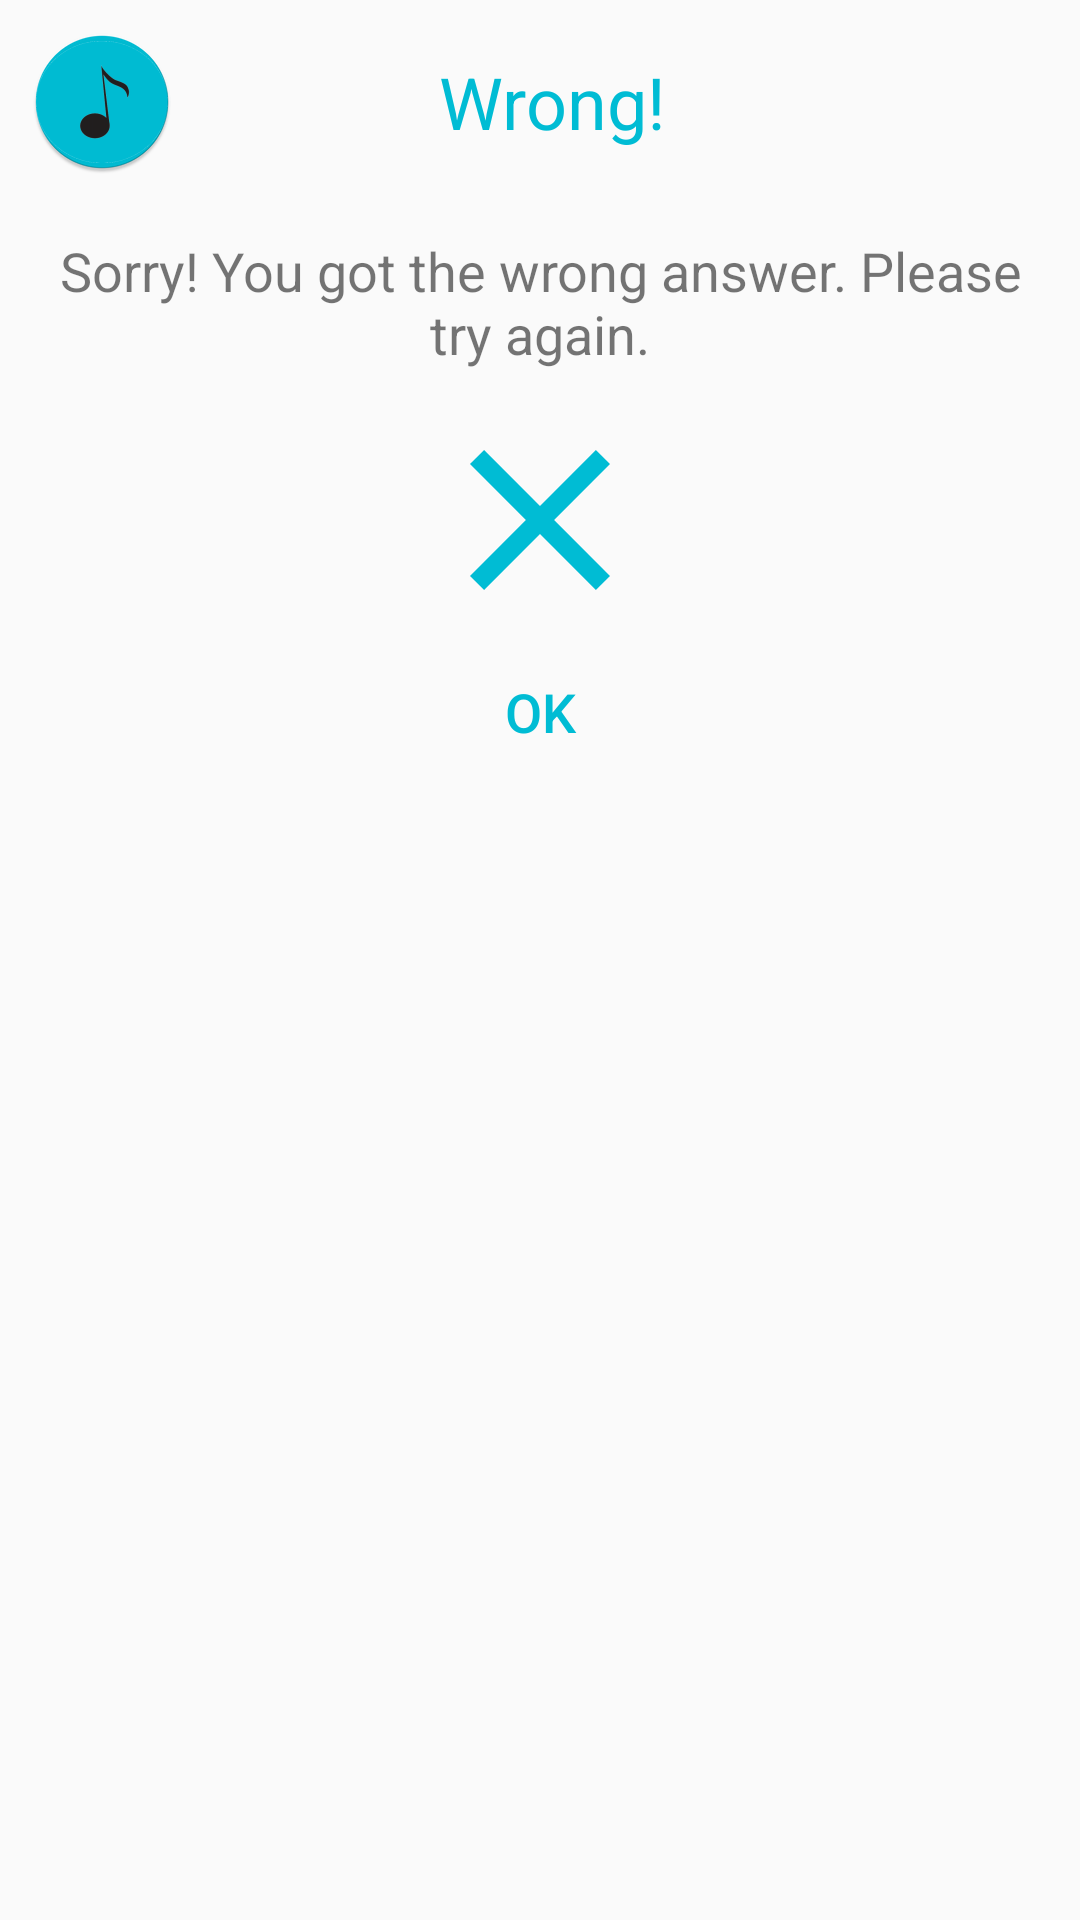

Icons on this 1080×1920 Android screen, each with the point to tap as (x=x, y=y):
An X (cross): (x=540, y=520)
